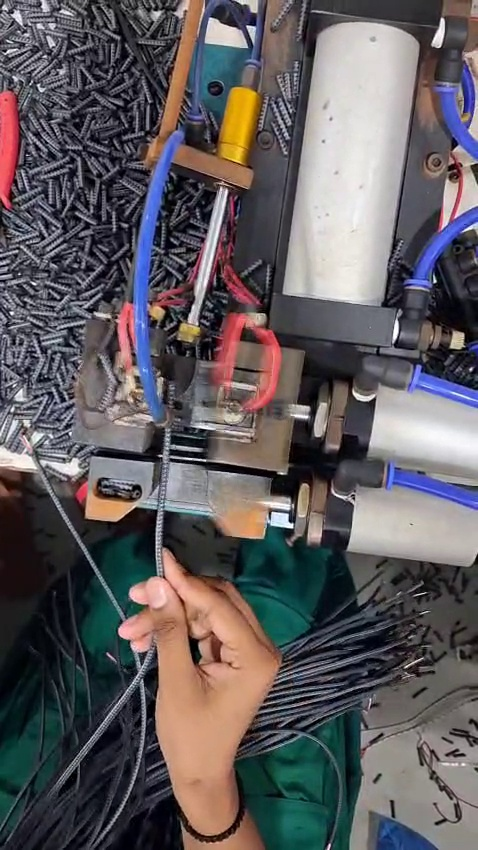intact_wire: (140, 449, 193, 533)
machine: (67, 300, 303, 531)
peeled_wire: (8, 424, 58, 483)
